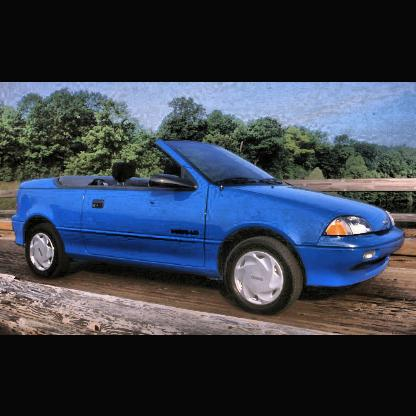Geo Metro Convertible 1993: (13, 139, 408, 317)
